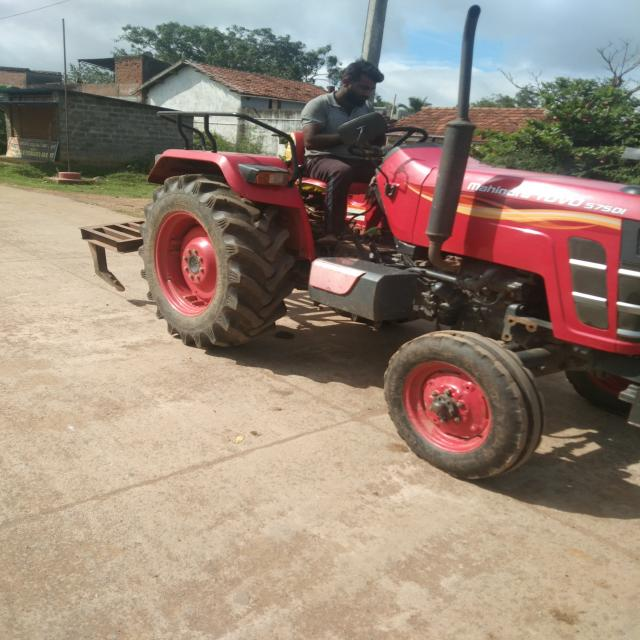Tractor: (71, 32, 640, 484)
